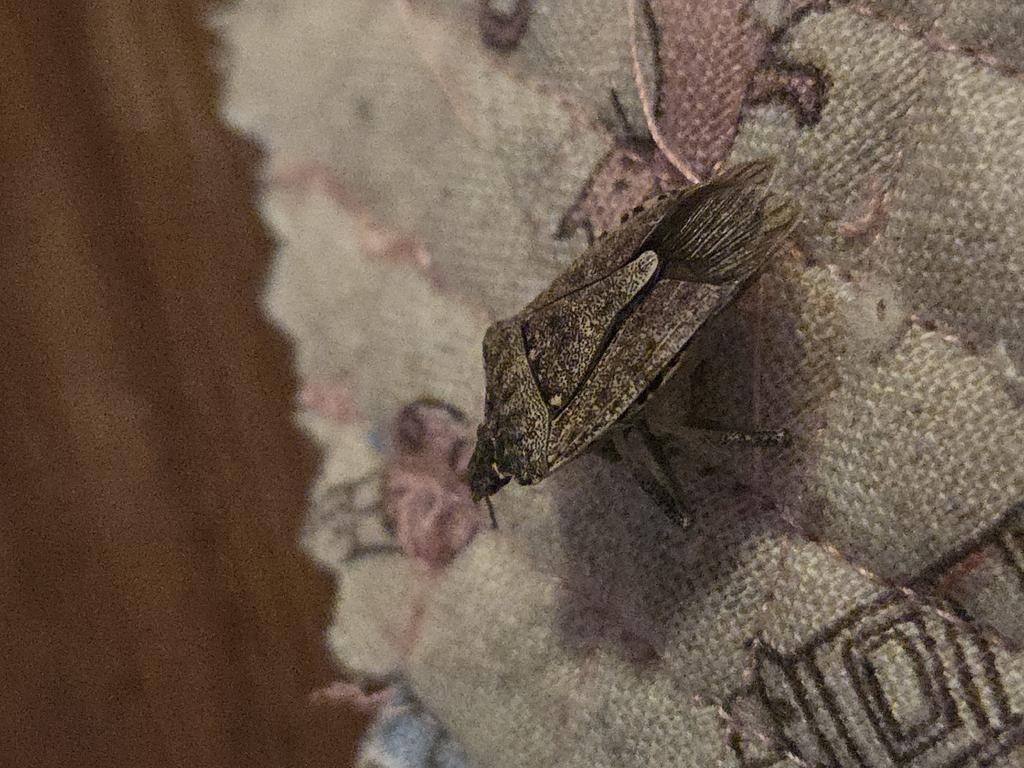stink_bugs: (376, 98, 851, 581)
